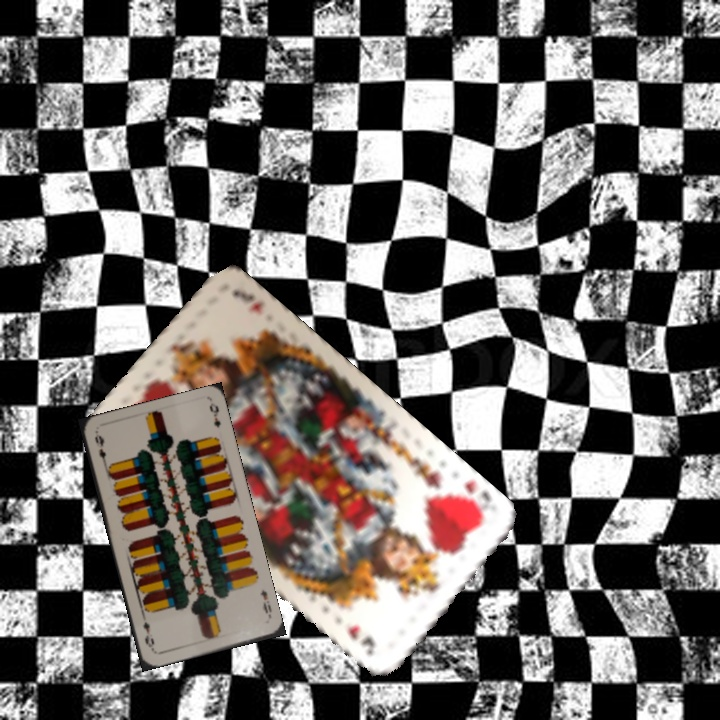E9: (91, 430, 113, 469), (256, 586, 274, 621)
HK: (451, 476, 494, 521)
